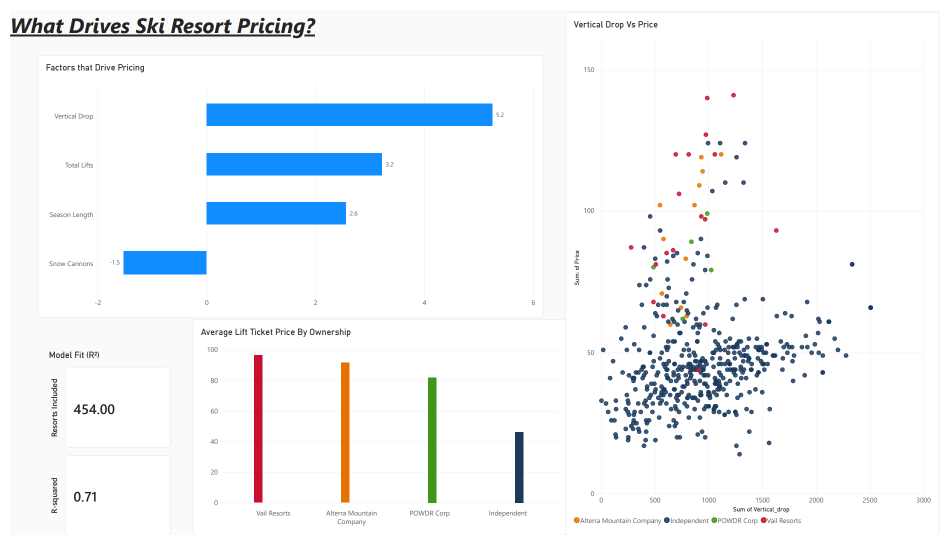

This screenshot's page, from the dashboard's own definition file:
{"tool":"powerbi","page":{"name":"Page 1","canvas":[1920,1080],"ordinal":0},"visuals":[{"type":"clusteredColumnChart","title":"Average Lift Ticket Price By Ownership","fields":{"Category":["resorts_final.Ownership"],"Series":["resorts_final.Ownership"],"Y":["Avg(resorts_final.Price)"]},"box":[376.5,635.2,773.2,445.5],"z":0},{"type":"scatterChart","title":"Vertical Drop Vs Price","fields":{"Category":["resorts_final.Resort"],"Series":["resorts_final.Ownership"],"X":["Sum(resorts_final.Vertical_drop)"],"Y":["Sum(resorts_final.Price)"]},"box":[1146.8,2.9,772.4,1077.7],"z":1},{"type":"clusteredBarChart","title":"Factors that Drive Pricing","fields":{"Category":["key_drivers_resort_pricing.Factor"],"Y":["Sum(key_drivers_resort_pricing.estimate)"]},"box":[57.5,92,1043.4,540.4],"z":2},{"type":"cardVisual","title":"Model Fit (R²)","fields":{"Data":["Sum(ski_resort_pricing_model_stats.Value)"],"Rows":["ski_resort_pricing_model_stats.Metric"]},"box":[80.5,698.4,250.1,382.3],"z":3},{"type":"textbox","box":[0,0,664,181.1],"z":4}]}

Visuals, with their boxes in screenshot pixels (x1, y1, x2, y2), scaled from the page's 1920x1080 canvas onto the 950x546 screenshot:
"Average Lift Ticket Price By Ownership" clusteredColumnChart: box(186, 321, 569, 545)
"Vertical Drop Vs Price" scatterChart: box(567, 1, 949, 545)
"Factors that Drive Pricing" clusteredBarChart: box(28, 47, 545, 320)
"Model Fit (R²)" cardVisual: box(40, 353, 164, 545)
textbox: box(0, 0, 329, 92)
